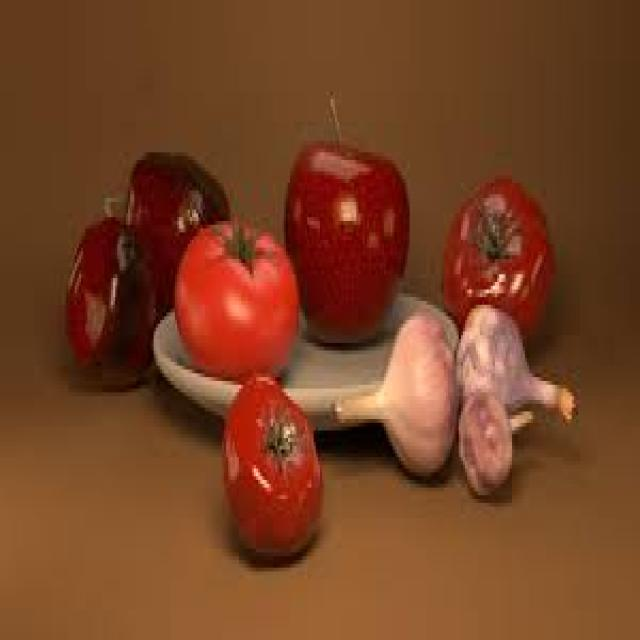food_waste: (66, 141, 407, 549), (335, 179, 574, 491)
